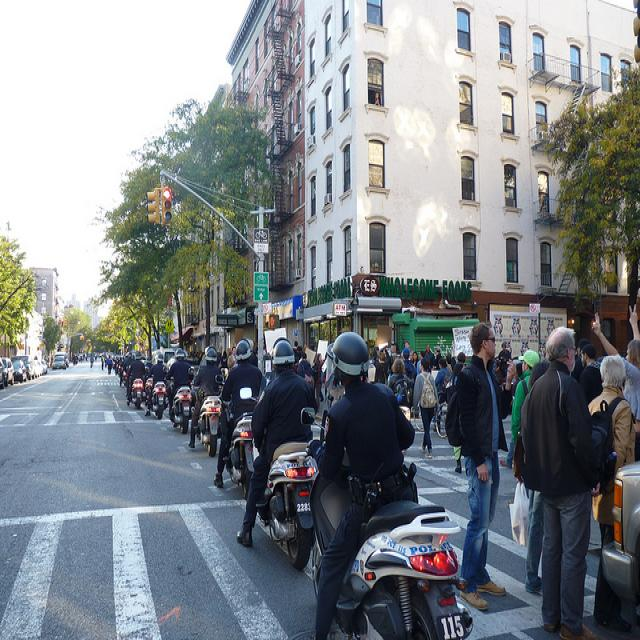motor: (312, 456, 474, 631), (239, 386, 322, 573), (216, 373, 256, 500), (188, 367, 227, 457), (166, 378, 196, 433), (143, 369, 168, 421), (131, 378, 146, 409), (122, 369, 128, 387), (114, 361, 119, 375), (118, 365, 122, 376), (112, 359, 116, 370)
